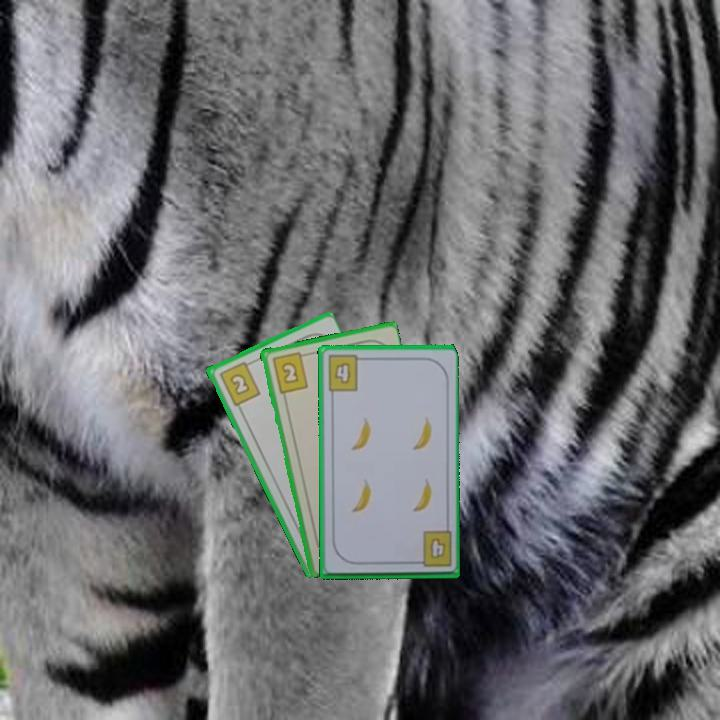2b: (215, 358, 263, 408), (268, 348, 311, 396)
4b: (410, 528, 454, 570), (324, 352, 367, 394)
